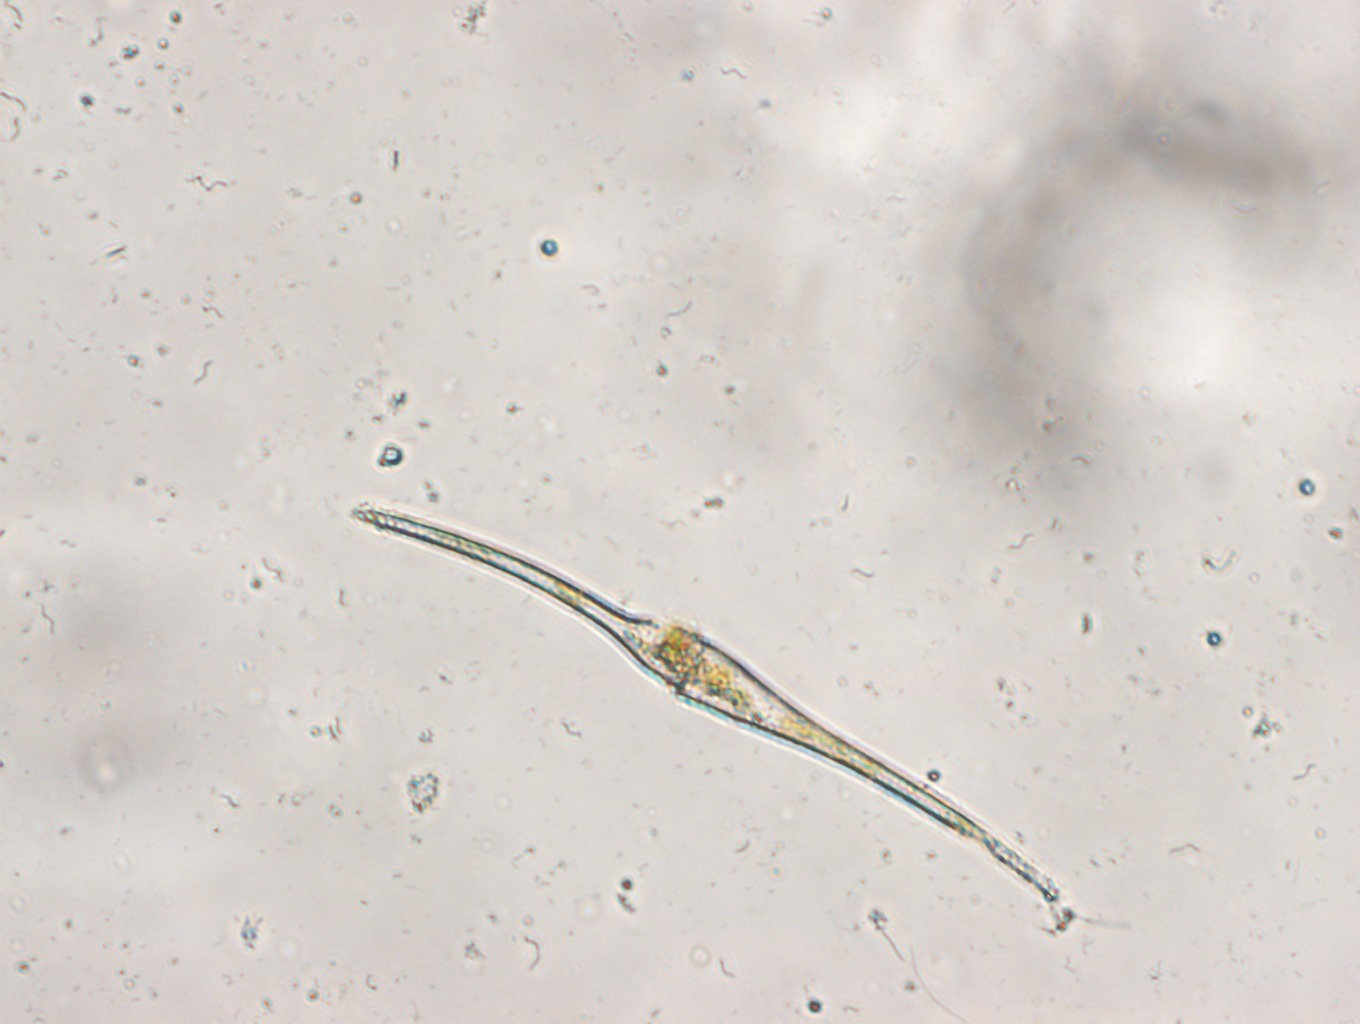ceratium fusus: (349, 503, 1066, 904)
